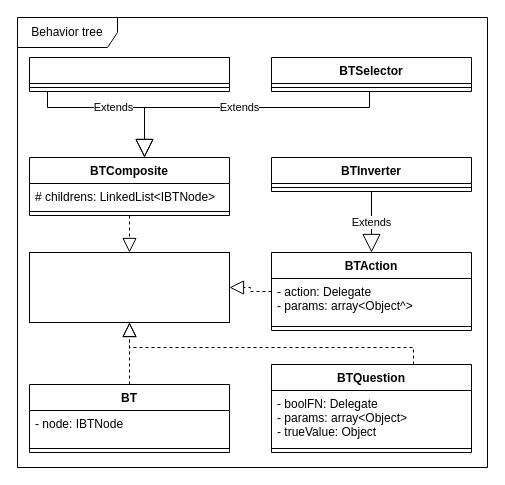
This 505x485 diagram has some shape labels left out. The shapes that lost their labels are listed below. From the top down, each one's centre as x and y in pixels, then its label:
At pixel 129 74: "BTSequence".
At pixel 129 287: "<<Interface>> IBTNode + Execute(): bool".
